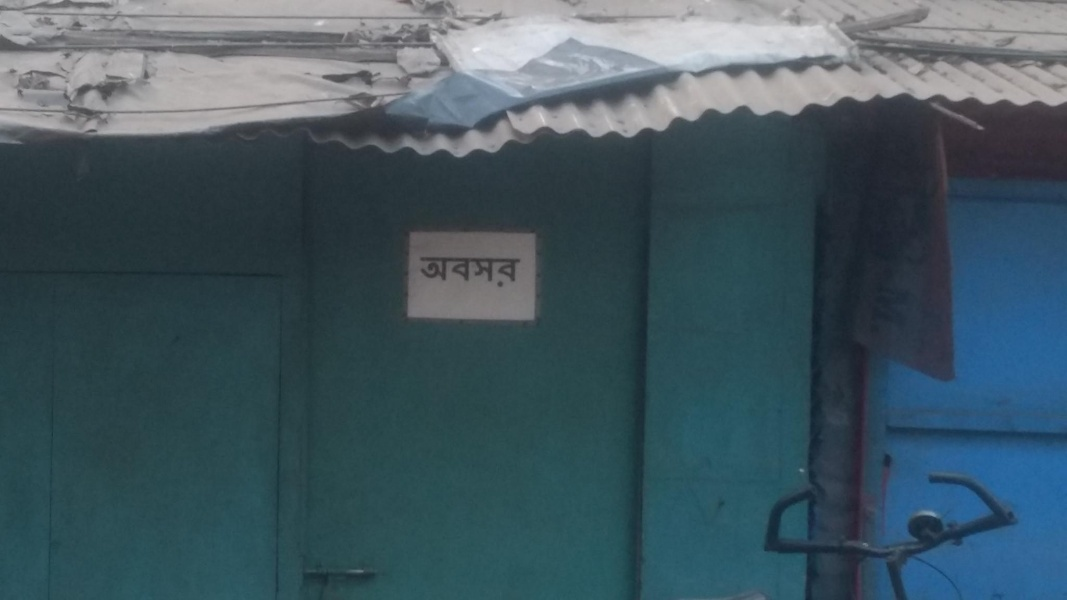text: (433, 255, 448, 289), (449, 255, 464, 289), (465, 255, 480, 289), (481, 255, 496, 289), (497, 255, 512, 289), (420, 255, 432, 289), (513, 255, 524, 289)
